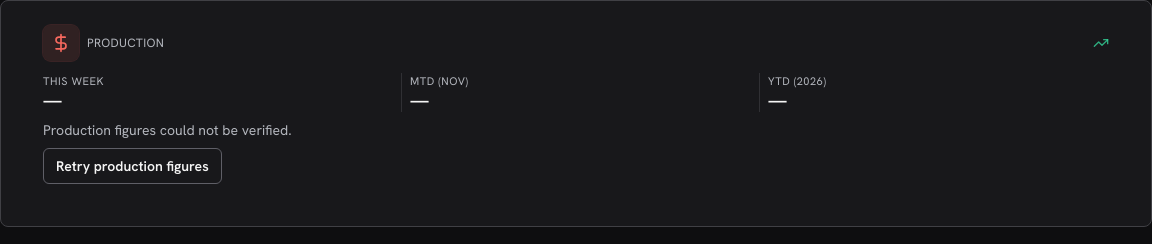
production analytics verified reads › shows a retry action instead of false zeros for a malformed result
This screenshot has width=1152, height=244.
Expected: the text "Production figures could not be verified." is shown, [43,121,292,139]
Click the button "Retry production figures": {"x": 132, "y": 166} [43,148,222,184]
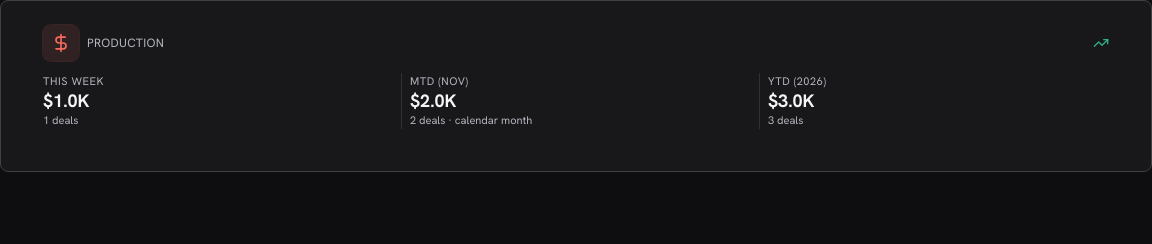
Expected: the text "$3.0K" is shown, [768,88,814,112]
